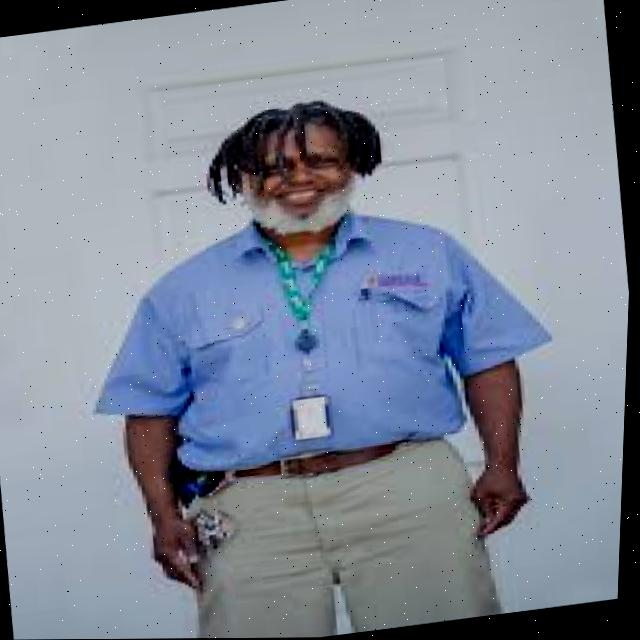id_card: (251, 229, 371, 447)
